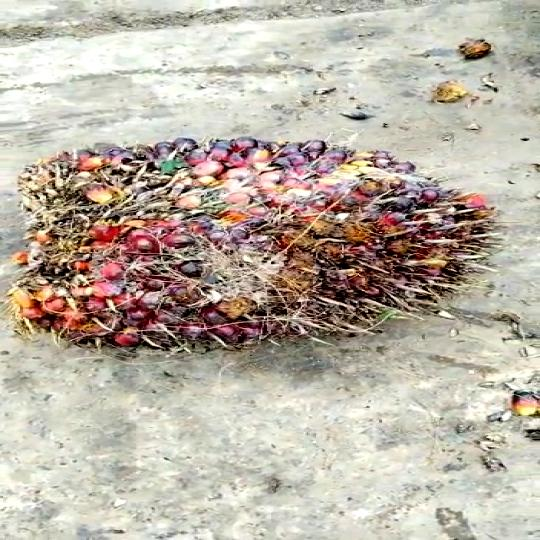masak: (7, 124, 493, 359)
